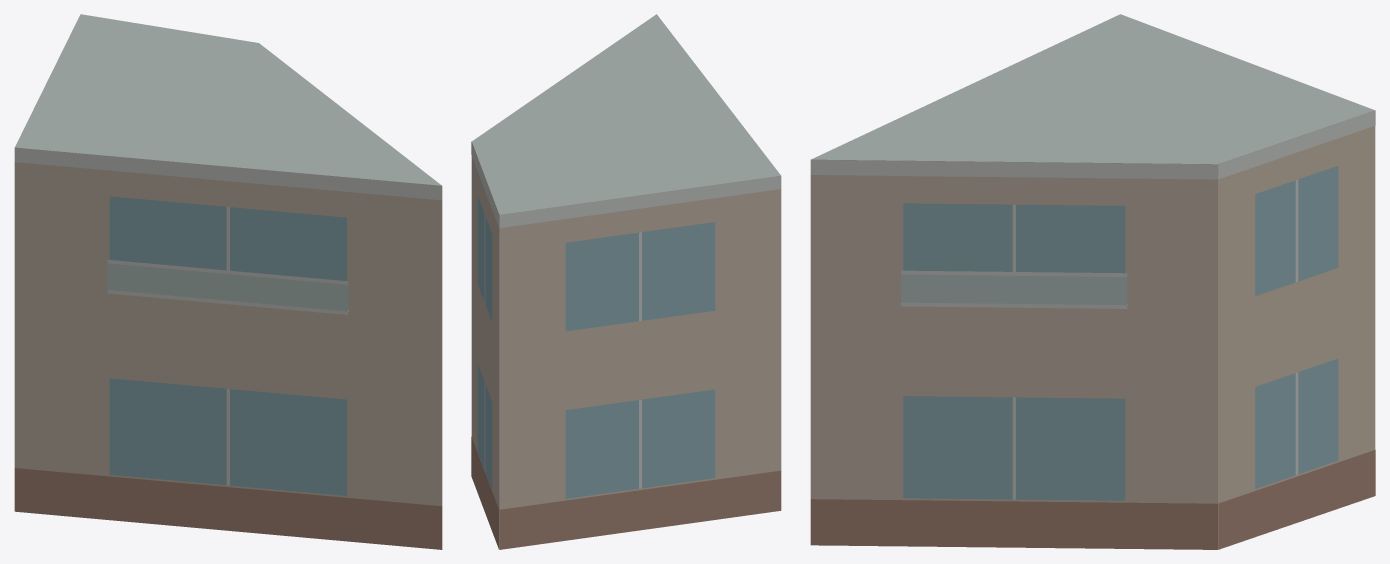
File: survey-upis-32775371.glb
The picture shows the model from 3 angles, left to right: view 1: azimuth 30°, elevation 25°; view 2: azimuth 150°, elevation 25°; view 3: azimuth 270°, elevation 25°; orthographic projection. The views are drawn at different scales.
Visible parts, largest first — view 1: survey-upis-32775371.tmp; view 2: survey-upis-32775371.tmp; view 3: survey-upis-32775371.tmp.
Part boxes in pixels (x1,y1,x2,y2): survey-upis-32775371.tmp: (14,14,442,549); survey-upis-32775371.tmp: (471,14,781,549); survey-upis-32775371.tmp: (810,14,1375,549).
Bounding box in the file's own units: 5.1 × 6.1 × 8.1.
